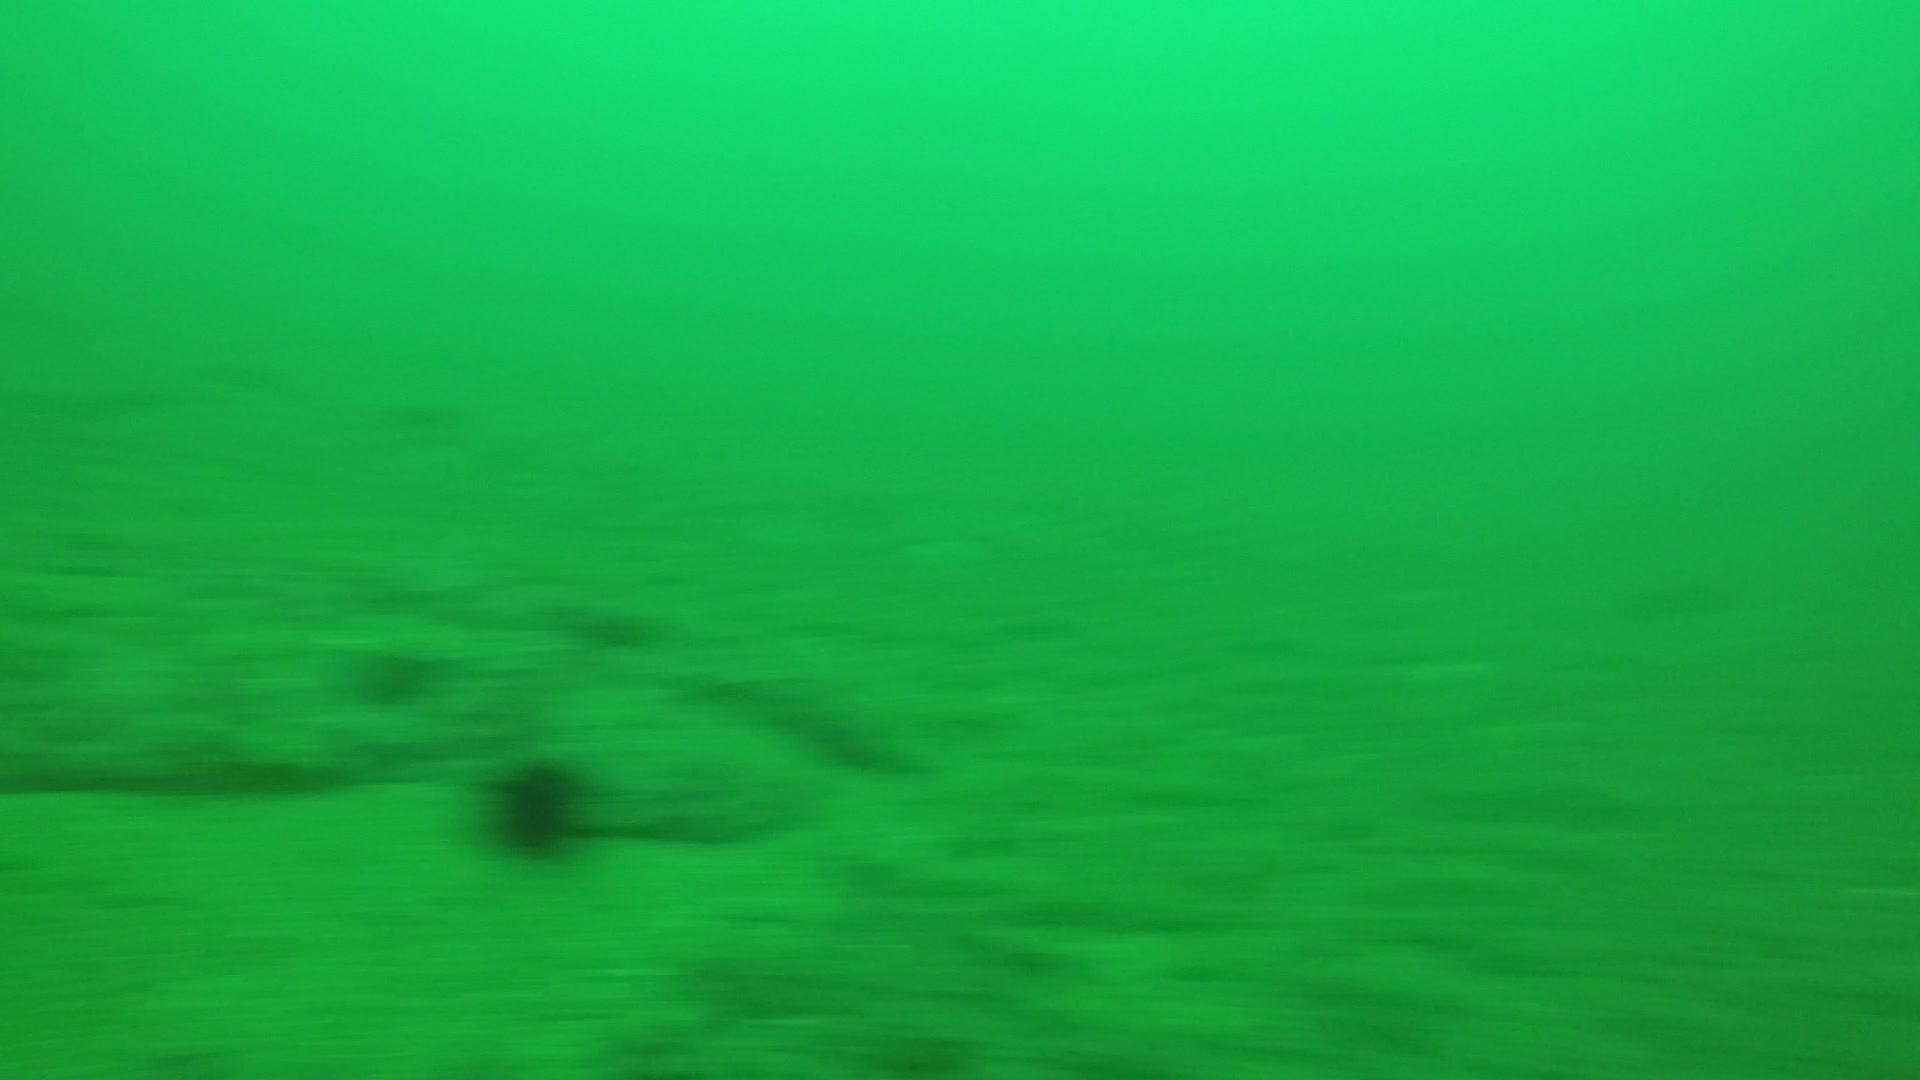echinus: (477, 750, 597, 864), (339, 636, 444, 713)
